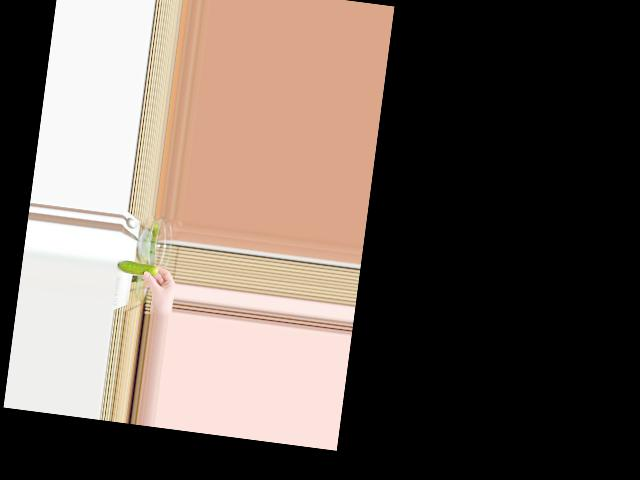cucumber: (117, 259, 158, 277)
